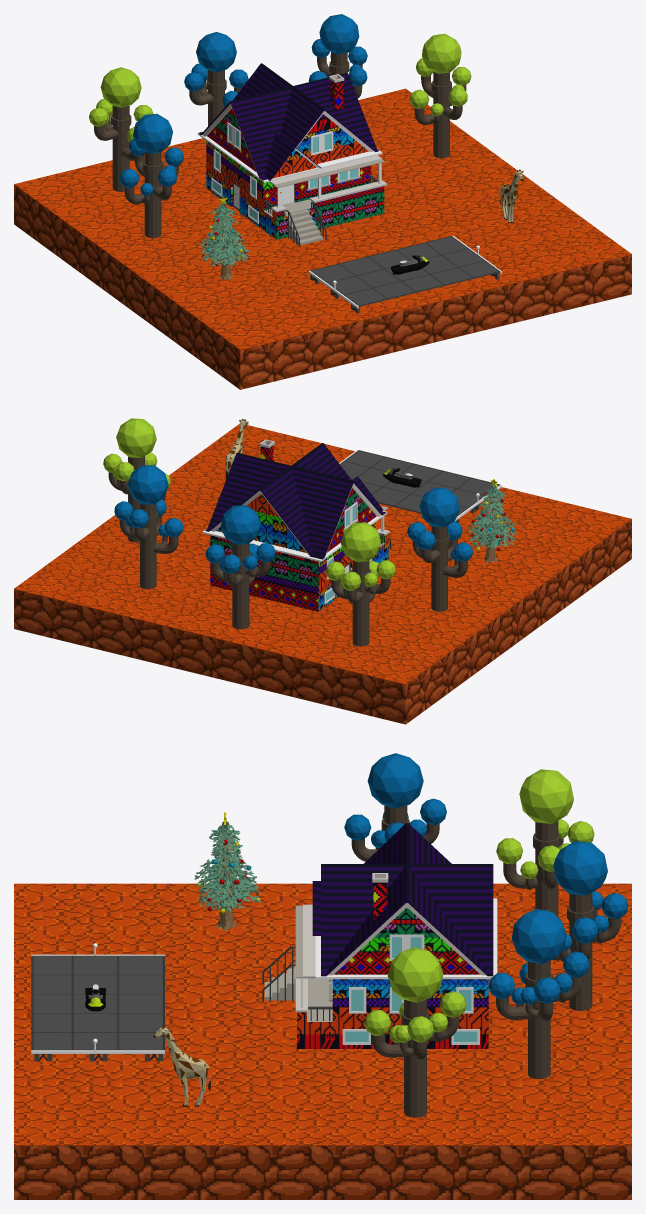
3 views of the same model, one above another, from view 1: azimuth 30°, elevation 25°; view 2: azimuth 150°, elevation 25°; view 3: azimuth 270°, elevation 25° (orthographic). The views are drawn at different scales.
Visible parts, largest first — view 1: Cube.001, Cube.966, OBJRANDOM_CHRISTMAS_TREE, ANIMAL_JIRAFA; view 2: Cube.001, Cube.966, OBJRANDOM_CHRISTMAS_TREE, ANIMAL_JIRAFA, VEHICLES_WATERBIKE; view 3: Cube.001, Cube.966, OBJRANDOM_CHRISTMAS_TREE, ANIMAL_JIRAFA.
Part boxes in pixels (x1,y1,x2,y2): Cube.001: (14, 14, 631, 389); Cube.966: (197, 63, 387, 246); OBJRANDOM_CHRISTMAS_TREE: (198, 196, 250, 280); ANIMAL_JIRAFA: (500, 169, 523, 222); Cube.001: (14, 418, 631, 724); Cube.966: (202, 439, 391, 611); OBJRANDOM_CHRISTMAS_TREE: (466, 479, 516, 563); ANIMAL_JIRAFA: (225, 419, 248, 478); VEHICLES_WATERBIKE: (383, 468, 421, 487); Cube.001: (14, 753, 631, 1199); Cube.966: (262, 823, 497, 1048); OBJRANDOM_CHRISTMAS_TREE: (194, 812, 261, 930); ANIMAL_JIRAFA: (153, 1025, 210, 1106).
Size of the model in its own units: 4000 by 1765 by 4000.
Materials: 37 (8 with a texture image).
